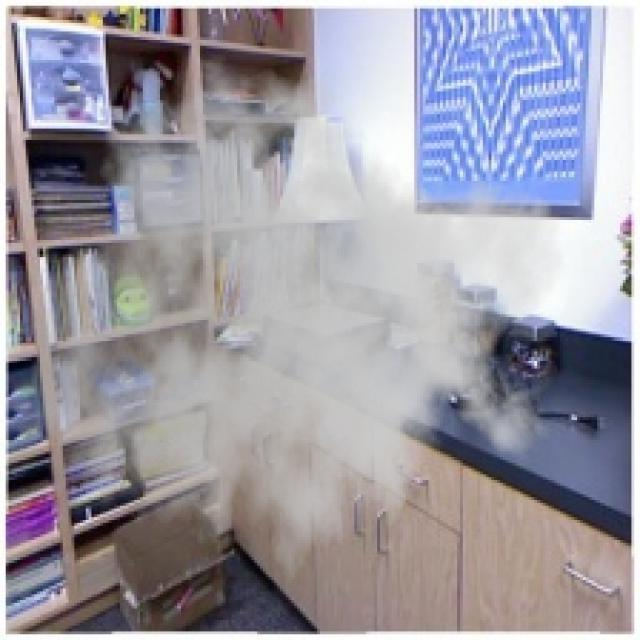Smoke: (29, 40, 568, 609)
